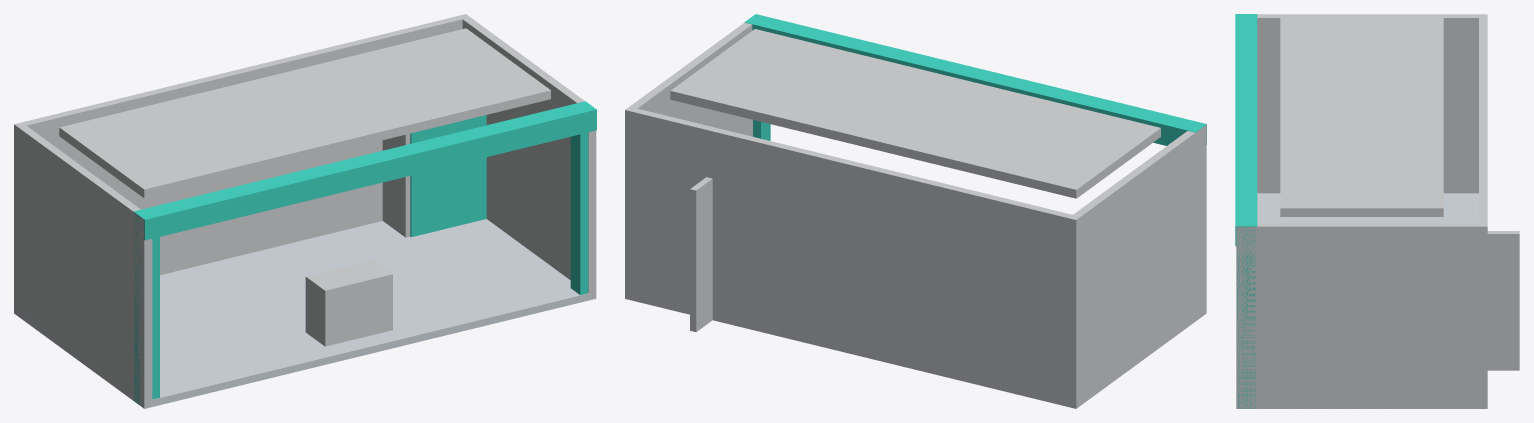
The picture shows the model from 3 angles, left to right: view 1: azimuth 30°, elevation 25°; view 2: azimuth 150°, elevation 25°; view 3: azimuth 270°, elevation 25°; orthographic projection. The views are drawn at different scales.
Visible parts, largest first — view 1: Exhibition Booth Concept; view 2: Exhibition Booth Concept; view 3: Exhibition Booth Concept.
Part boxes in pixels (x1=…): Exhibition Booth Concept: x1=14, y1=14, x2=596, y2=408; Exhibition Booth Concept: x1=625, y1=14, x2=1206, y2=408; Exhibition Booth Concept: x1=1235, y1=14, x2=1519, y2=408.
Bounding box in the file's own units: 8 × 3.34 × 4.52.
